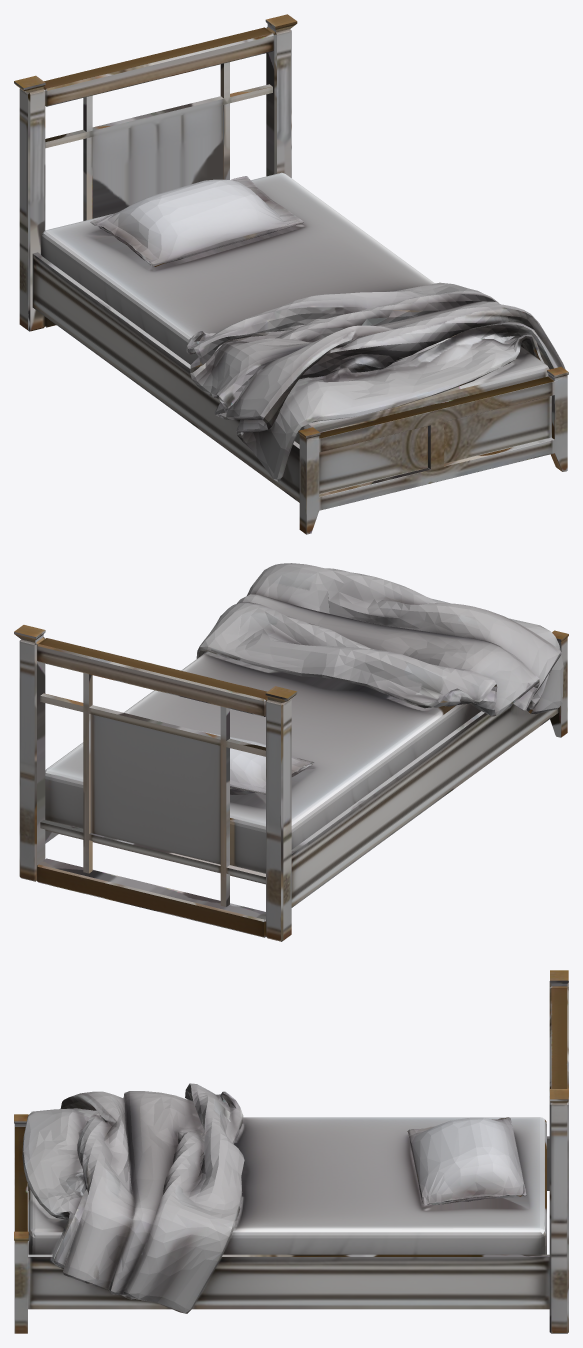
File: edited_mesh.glb
3 views of the same model, one above another, from view 1: azimuth 30°, elevation 25°; view 2: azimuth 150°, elevation 25°; view 3: azimuth 270°, elevation 25° (orthographic). The views are drawn at different scales.
Visible parts, largest first — view 1: solid_001_wire; view 2: solid_001_wire; view 3: solid_001_wire.
Part boxes in pixels (box(x1,y1,x2,y2)): solid_001_wire: box(14, 14, 568, 534); solid_001_wire: box(14, 563, 568, 941); solid_001_wire: box(14, 970, 568, 1333).
Size of the model in its own units: 1.29 by 0.9447 by 2.
1 material, 1 textured.
